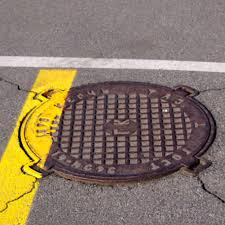Manhole-Closed: (15, 78, 220, 182)
